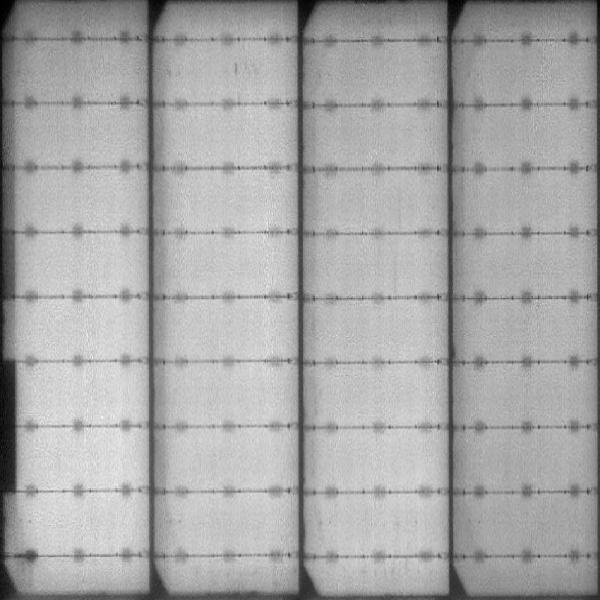black_border: (1, 353, 23, 498), (1, 162, 18, 309)
